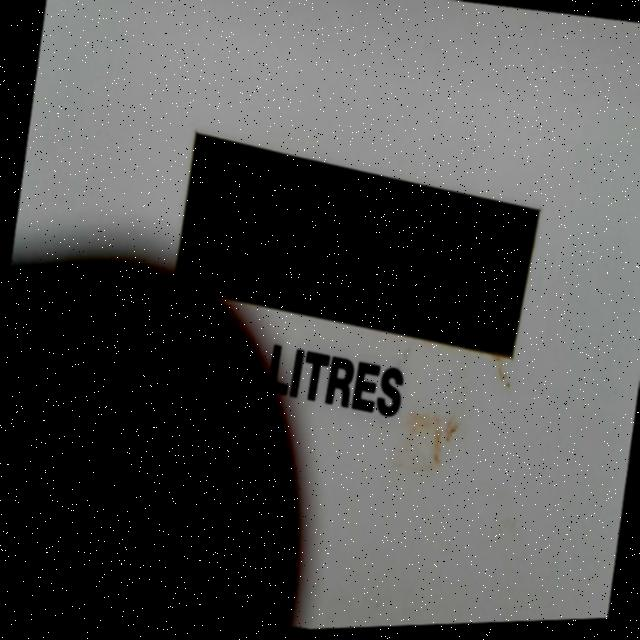.: (385, 293, 398, 313)
0: (449, 203, 513, 337), (398, 192, 458, 320)
6: (344, 188, 401, 314), (291, 177, 347, 299)
